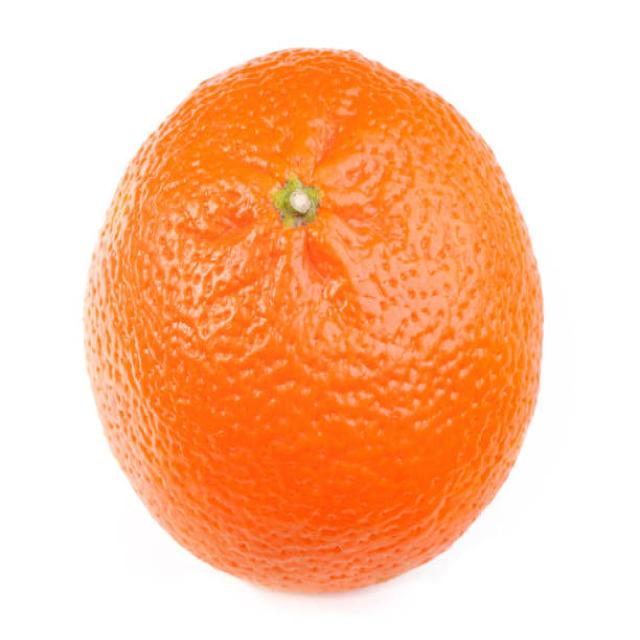Ripe: (76, 42, 550, 600)
